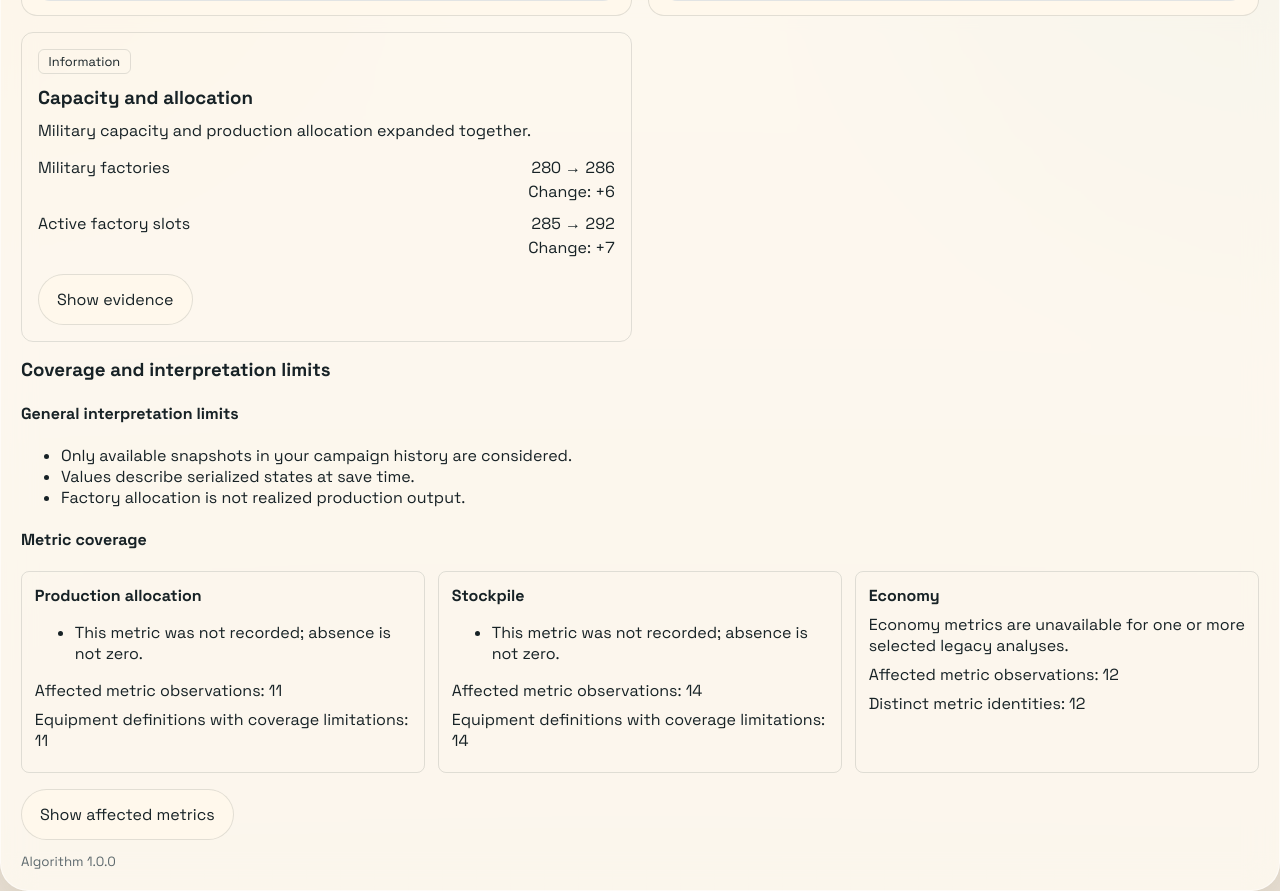
Test: Campaign Intelligence frontend › legacy endpoint count 1 groups exact observations without claiming global absence
(page scrolled)
Click the button "Show affected metrics".
click(127, 814)  # box x1=21 y1=789 x2=234 y2=840
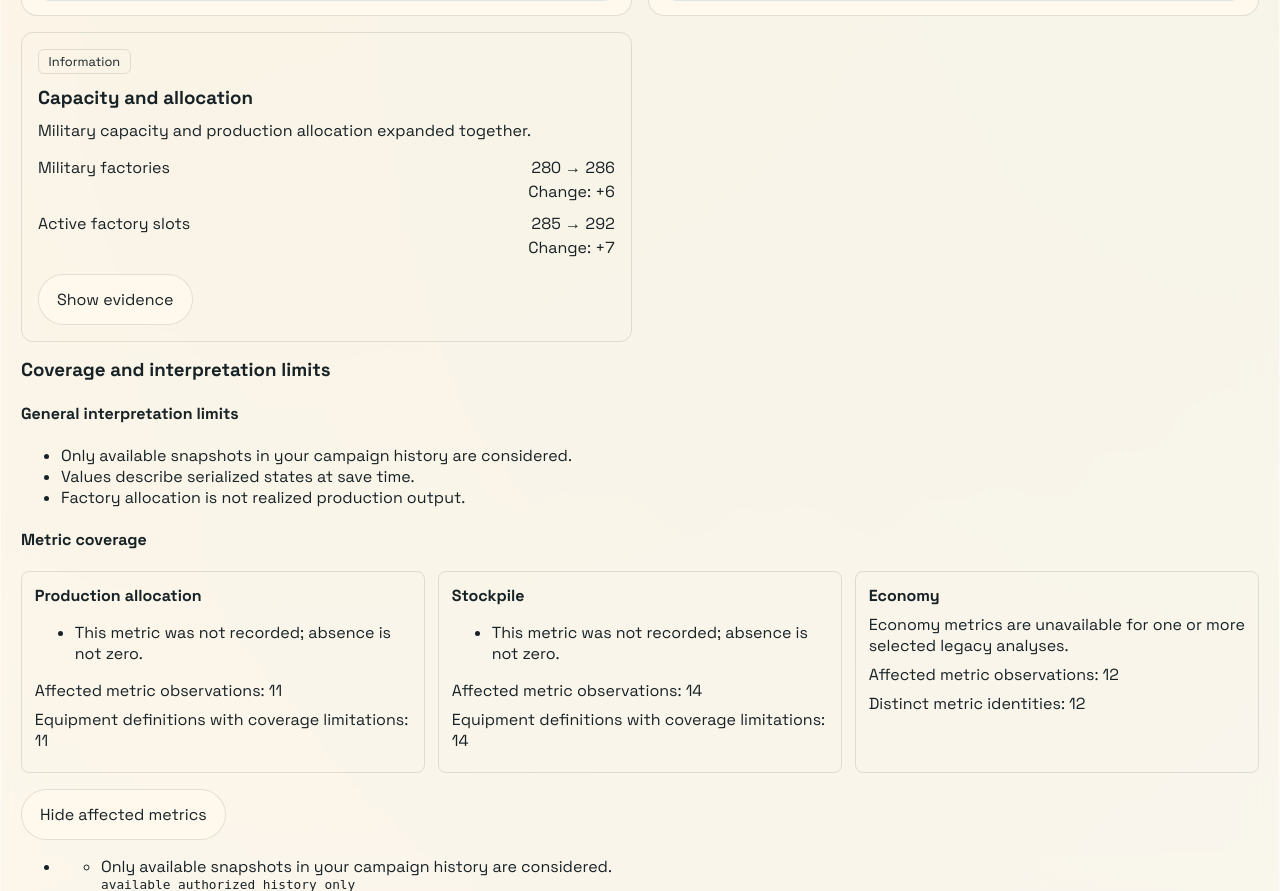
Now the button "Hide affected metrics" is expanded
Click the button "Hide affected metrics".
click(123, 814)  # box x1=21 y1=789 x2=226 y2=840
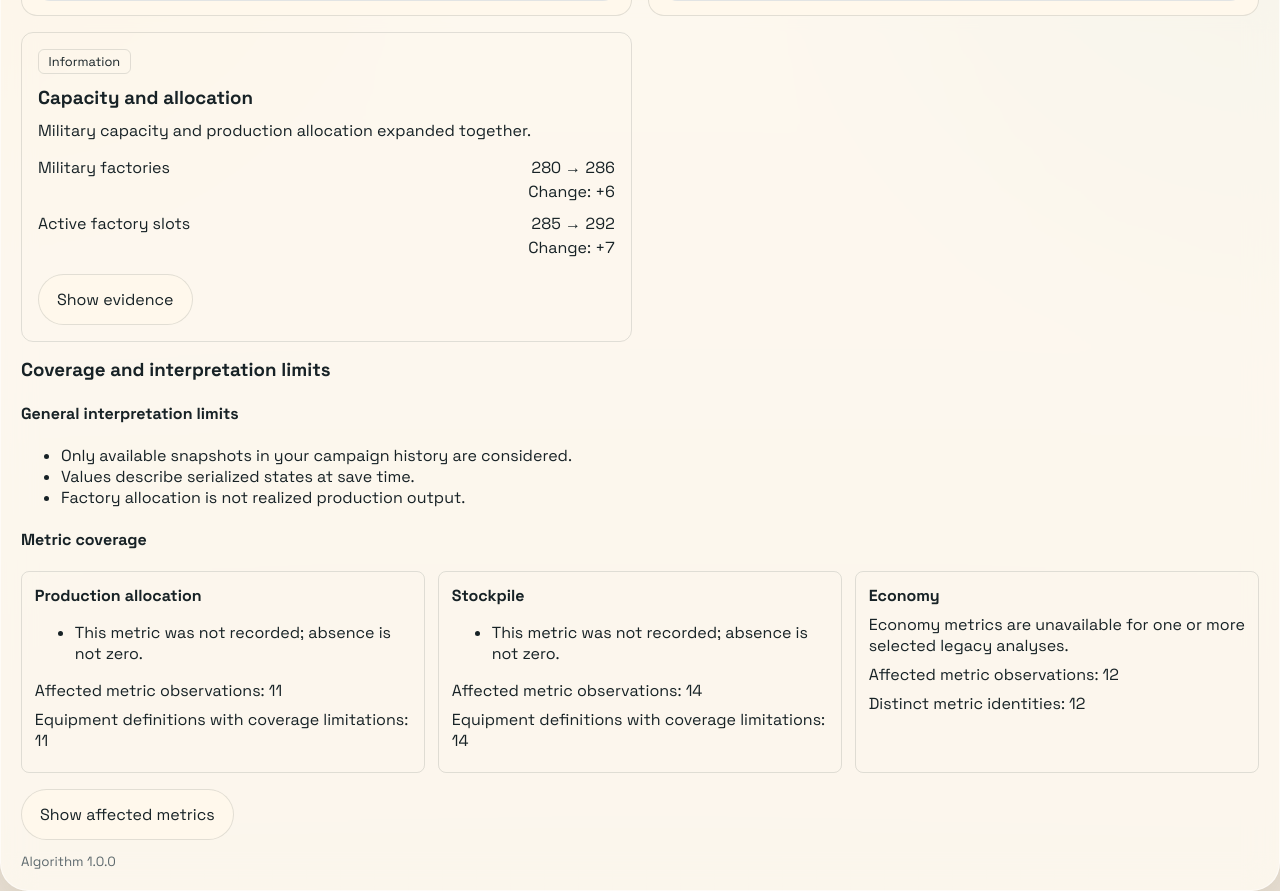
Now the button "Show affected metrics" is collapsed, box x1=21 y1=789 x2=234 y2=840
